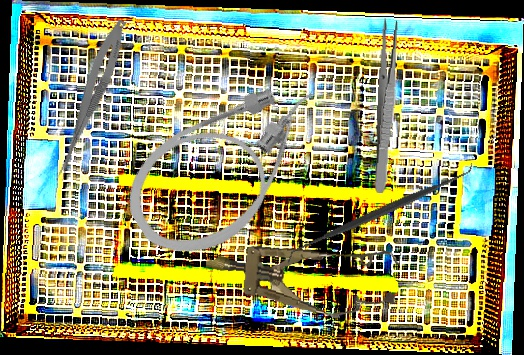Cannula: (106, 58, 355, 278)
Dressing Forceps: (372, 18, 401, 194)
Micro Scissor: (51, 16, 132, 185)
Spatula Surgical: (279, 160, 480, 266)
Speculum: (201, 225, 402, 325)
